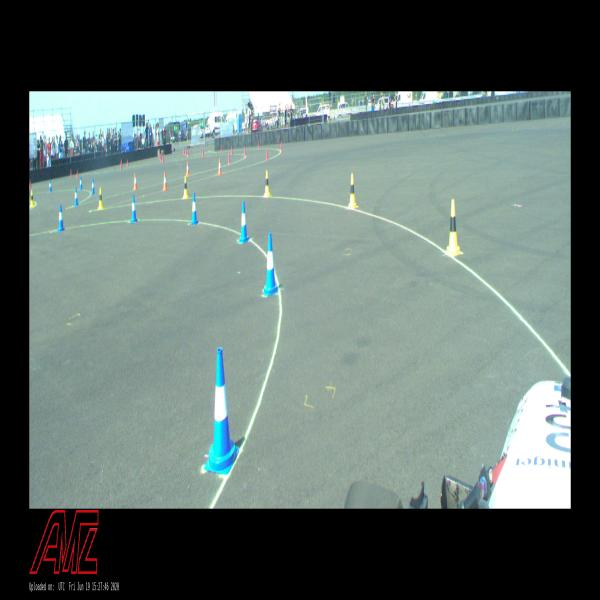blue_cone: (205, 348, 239, 474), (264, 233, 278, 295), (239, 202, 249, 242), (190, 192, 198, 224), (130, 194, 138, 223), (58, 205, 64, 232), (74, 187, 79, 206), (92, 179, 95, 194), (49, 179, 52, 192), (80, 176, 82, 190)
orange_cone: (163, 172, 168, 191), (133, 174, 138, 190), (218, 158, 222, 175), (186, 161, 190, 177)
yellow_cone: (446, 199, 462, 256), (348, 174, 358, 209), (264, 170, 270, 196), (182, 176, 188, 198), (98, 188, 104, 210), (30, 190, 34, 208)
